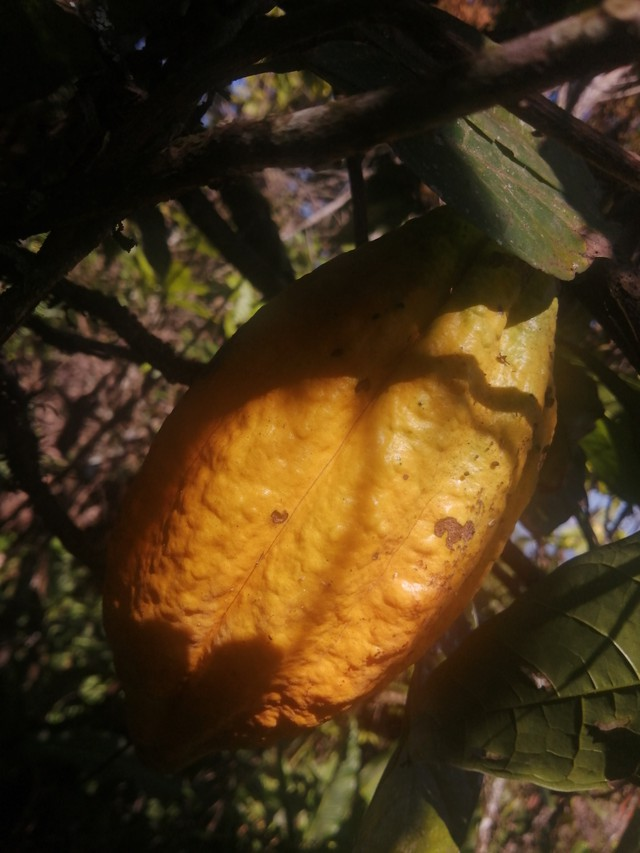Health: (77, 180, 576, 783)
